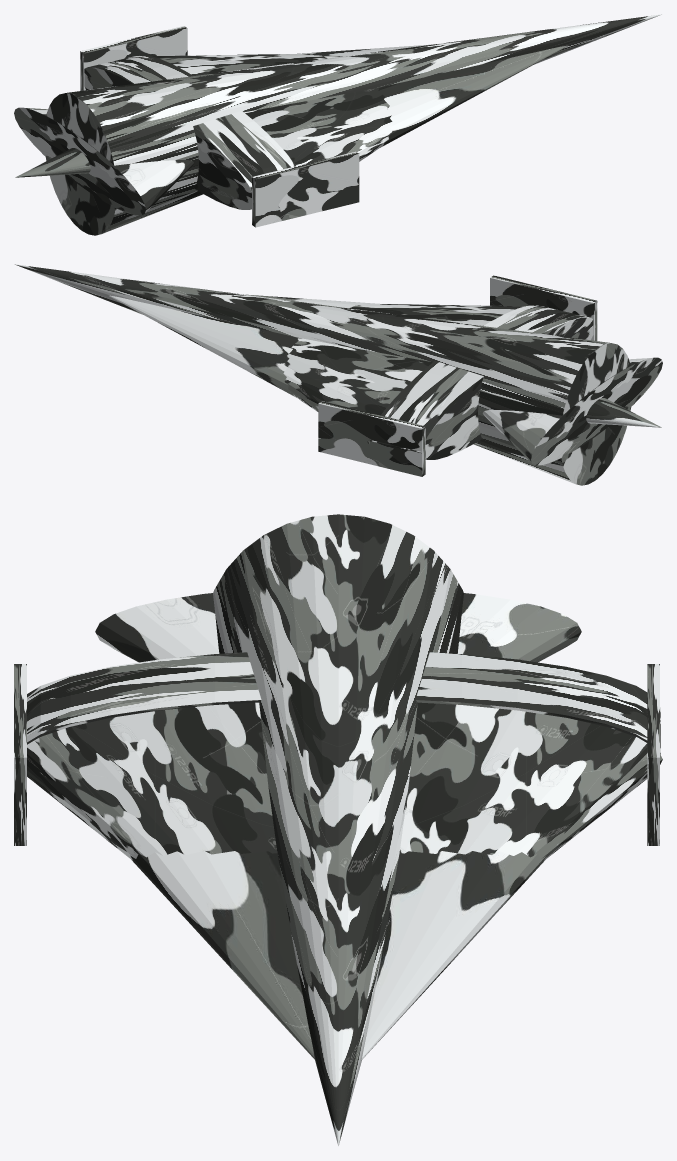
The model's file is enemy.gltf.
The picture shows the model from 3 angles, top to bottom: view 1: azimuth 30°, elevation 25°; view 2: azimuth 150°, elevation 25°; view 3: azimuth 270°, elevation 25°; orthographic projection. The views are drawn at different scales.
Parts seen in each view (by area): view 1: Cylinder; view 2: Cylinder; view 3: Cylinder.
Boxes of the visible parts, x1,y1,x2,y2 form: Cylinder: (14, 14, 661, 235); Cylinder: (15, 264, 662, 485); Cylinder: (14, 514, 662, 1146).
Bounding box in the file's own units: 10.24 × 2 × 4.82.
1 material, 1 textured.
